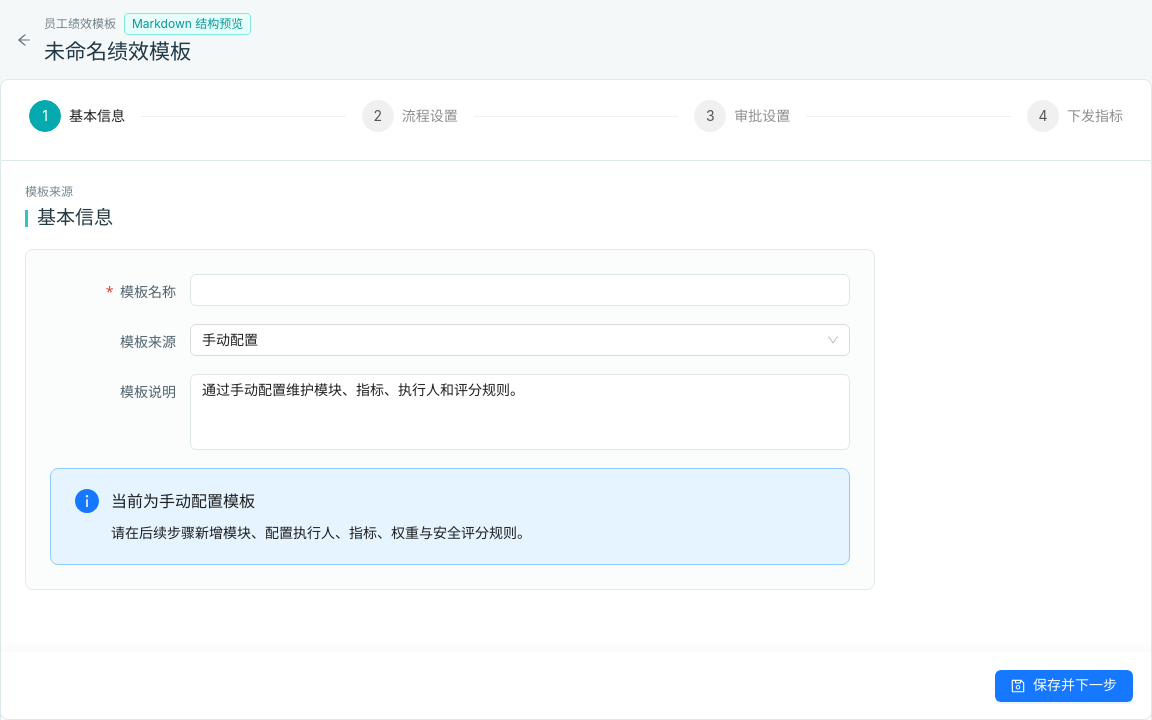
Test: PerformanceTemplateEditorPage › locks a confirmation step executor to the assessed employee
Step 1. Click the text "审批设置" → (770, 116), box 734,100 -> 806,132
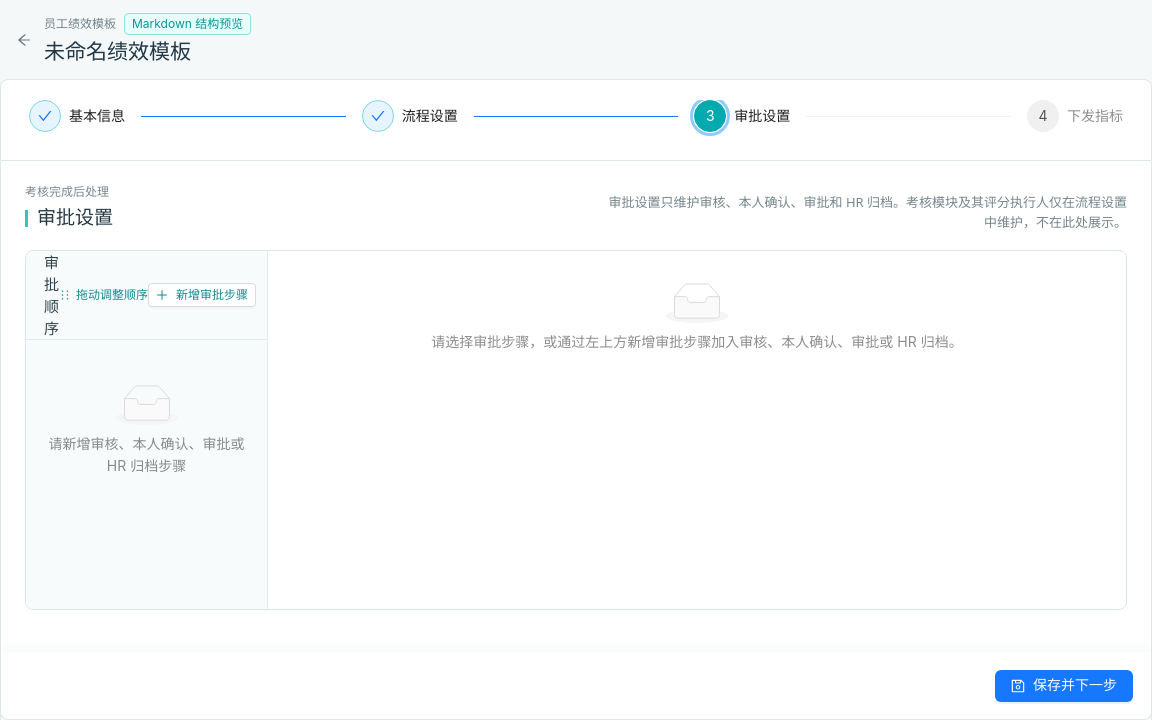
Step 2. Click the button "新增审批步骤" → (202, 295), box 148,283 -> 256,307
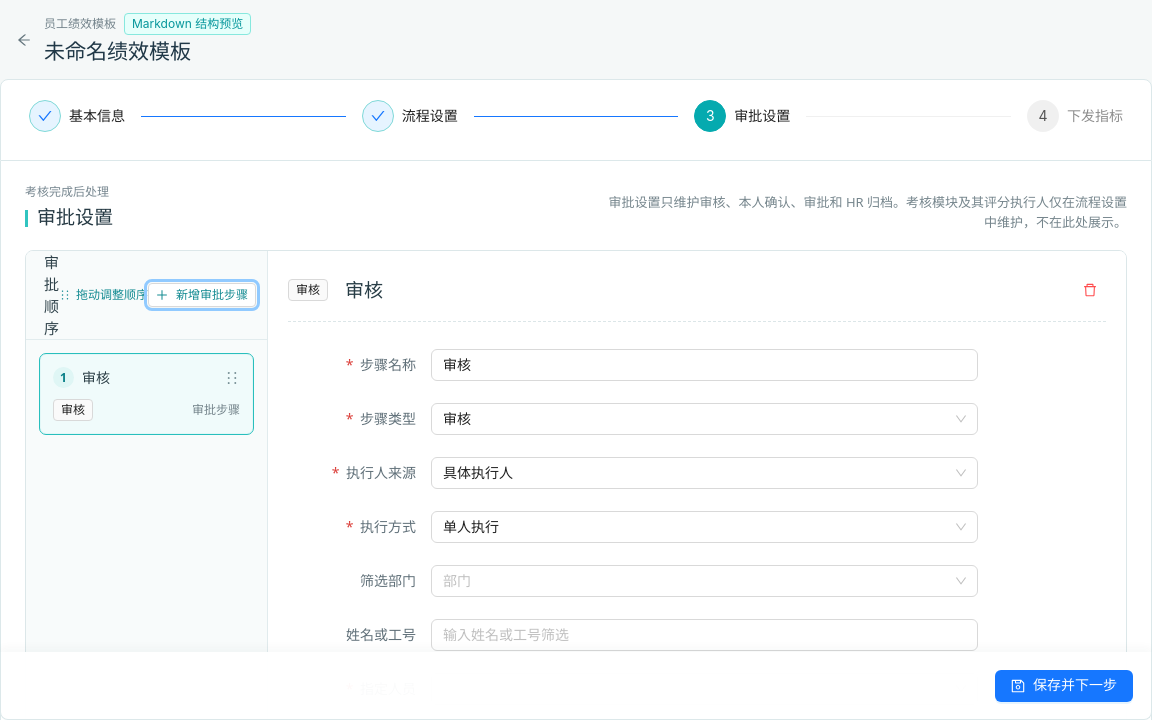
Step 3. Click the dropdown named "审批步骤类型" → (633, 419), box 288,401 -> 978,437
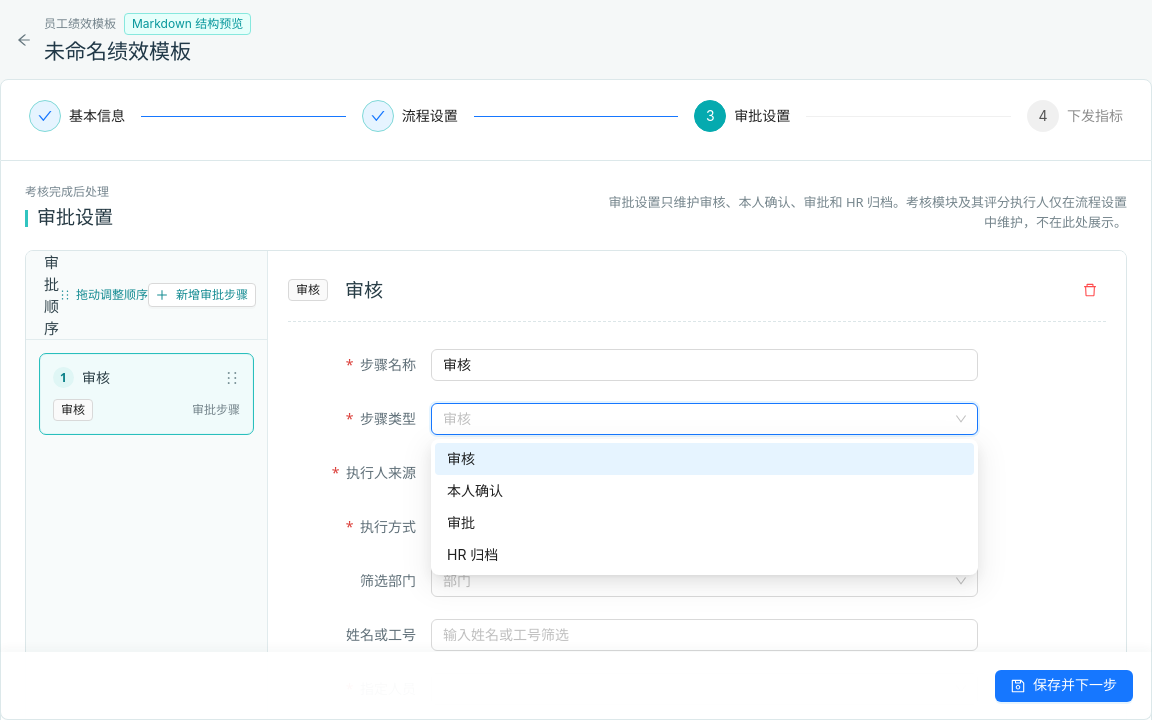
Step 4. Click the text "本人确认" → (475, 490), box 447,482 -> 503,499
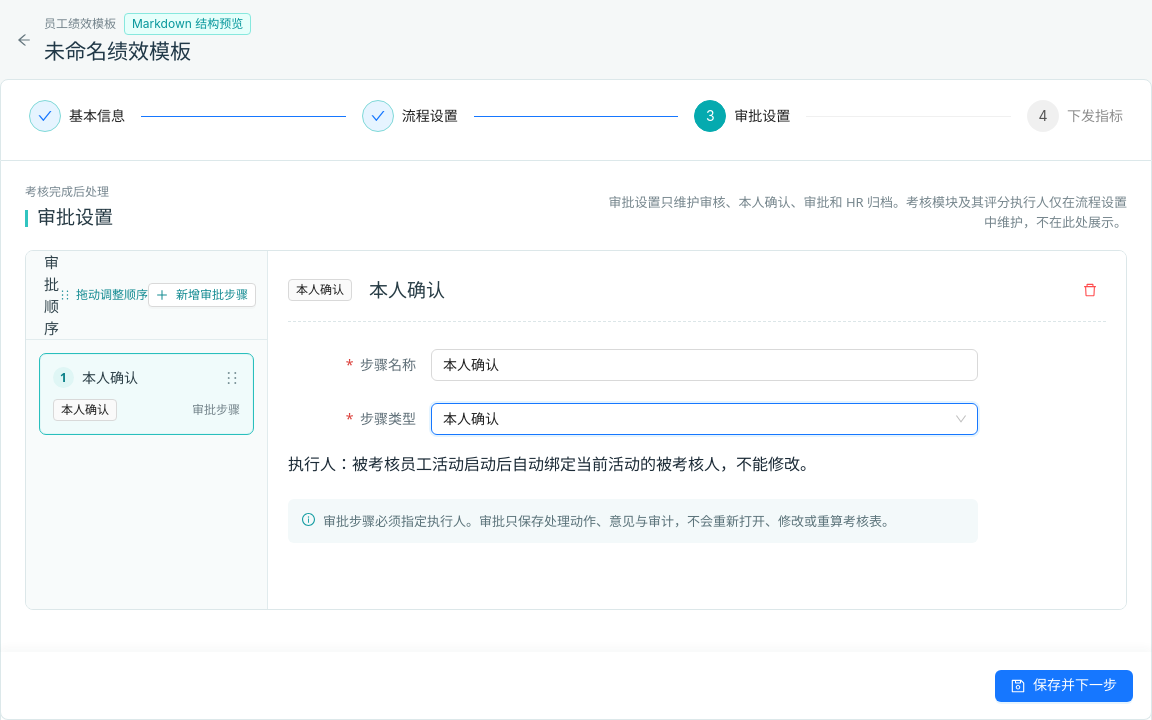
expect the text "执行人：被考核员工" is shown: met, box 288,453 -> 432,475
expect the text "活动启动后自动绑定当前活动的被考核人，不能修改。" is shown: met, box 432,453 -> 816,475
expect the dropdown labelled "审批执行人来源" is gone: met
